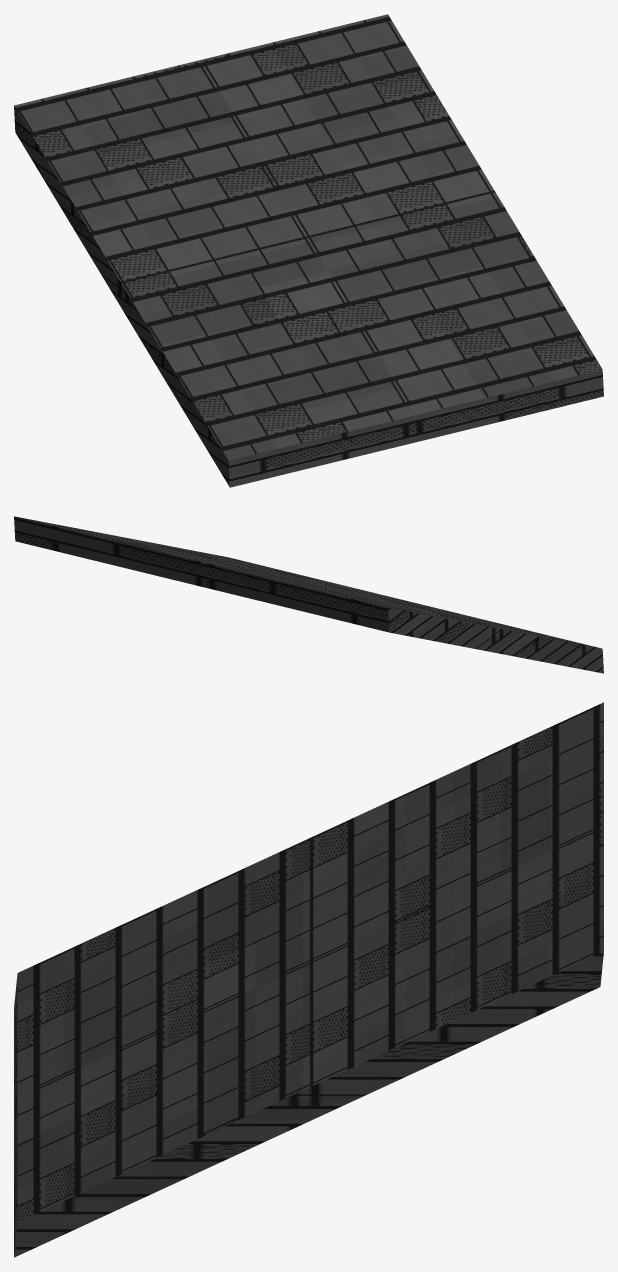
Rendered from theodosian slate roof triangle.glb.
3 views of the same model, one above another, from view 1: azimuth 30°, elevation 25°; view 2: azimuth 150°, elevation 25°; view 3: azimuth 270°, elevation 25° (orthographic). The views are drawn at different scales.
Visible parts, largest first — view 1: Theodosian_slate_triangle; view 2: Theodosian_slate_triangle; view 3: Theodosian_slate_triangle.
Part boxes in pixels (x1=…): Theodosian_slate_triangle: x1=14, y1=14, x2=603, y2=487; Theodosian_slate_triangle: x1=14, y1=516, x2=603, y2=673; Theodosian_slate_triangle: x1=14, y1=702, x2=603, y2=1257.
Size of the model in its own units: 1 by 0.5726 by 1.
Materials: 1 (1 with a texture image).
